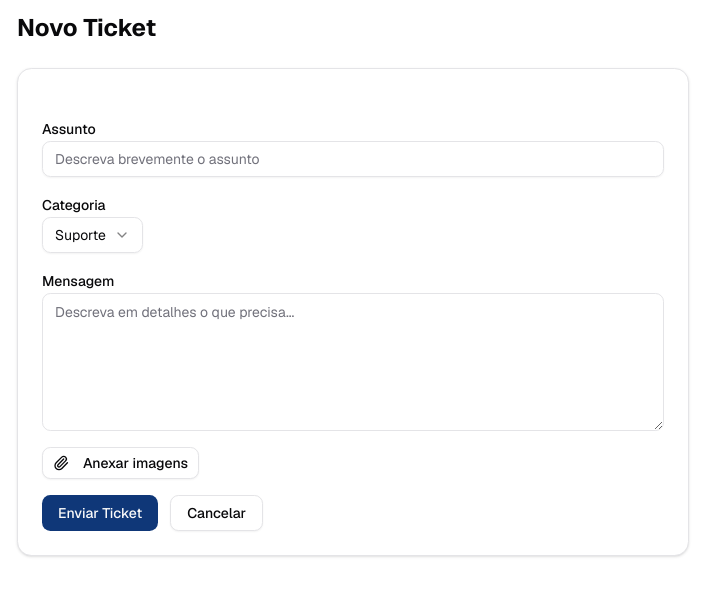
Test case: NewTicketPage › error handling › shows generic 'Erro ao criar ticket' when error field is missing
Type "Assunto" into the field labelled "Assunto" at (353,159), box [42,141,664,177]
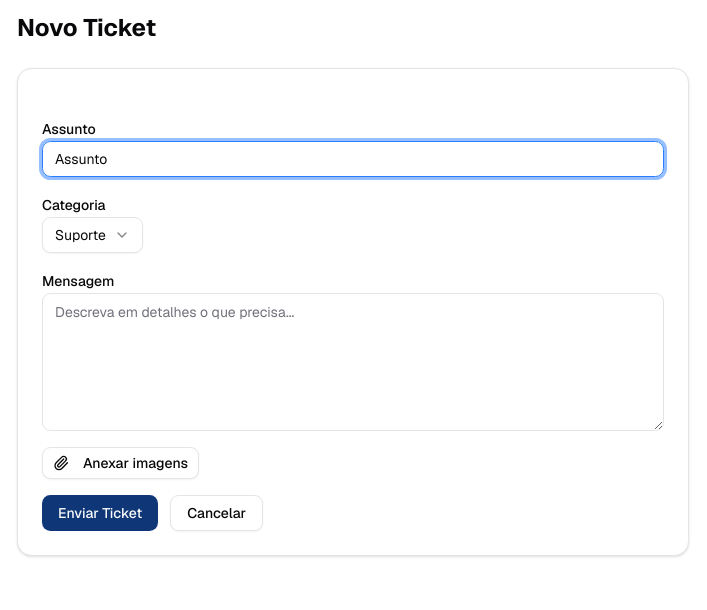
Type "Mensagem" into the text box labelled "Mensagem" at (353,362), box [42,293,664,431]
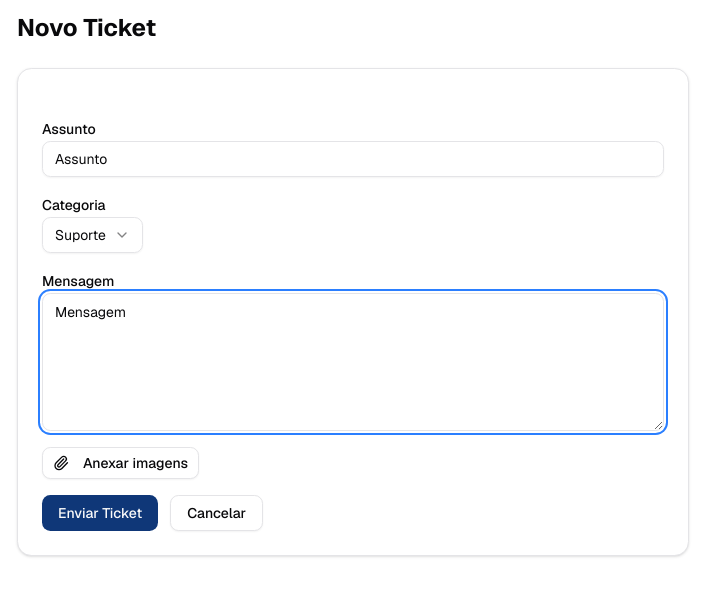
Click the button "Enviar Ticket" at (100,513), box [42,495,158,531]
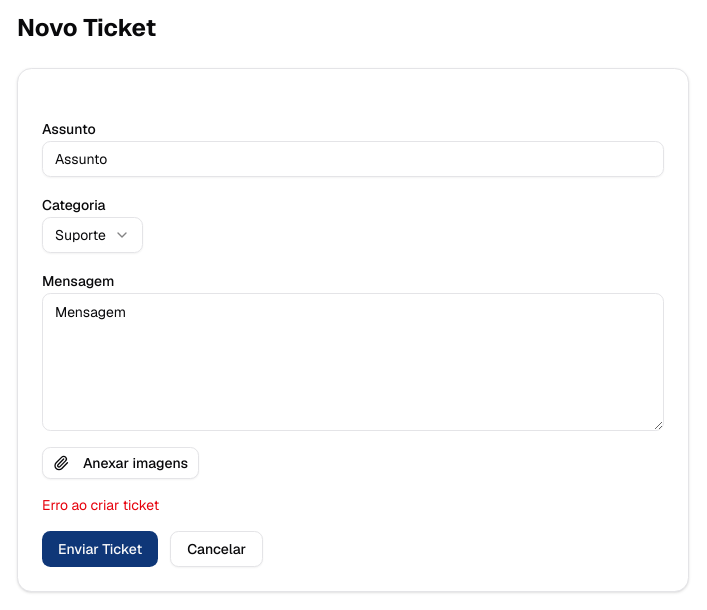
Result: the text "Erro ao criar ticket" is shown at [42,496,159,514]
